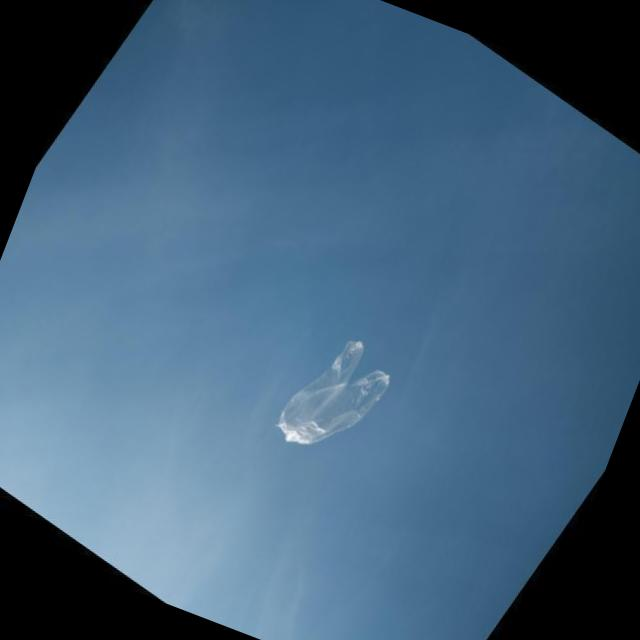KantongPlastik: (271, 321, 403, 470)
